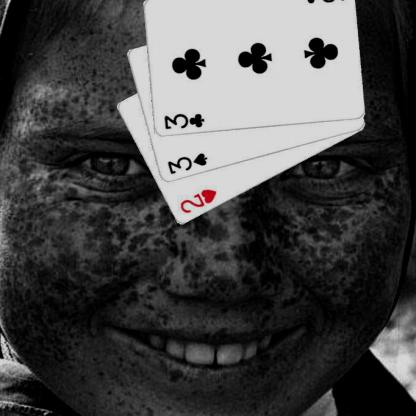2H: (177, 186, 218, 214)
3C: (161, 111, 205, 131), (302, 0, 346, 5)
3S: (165, 150, 208, 176)
